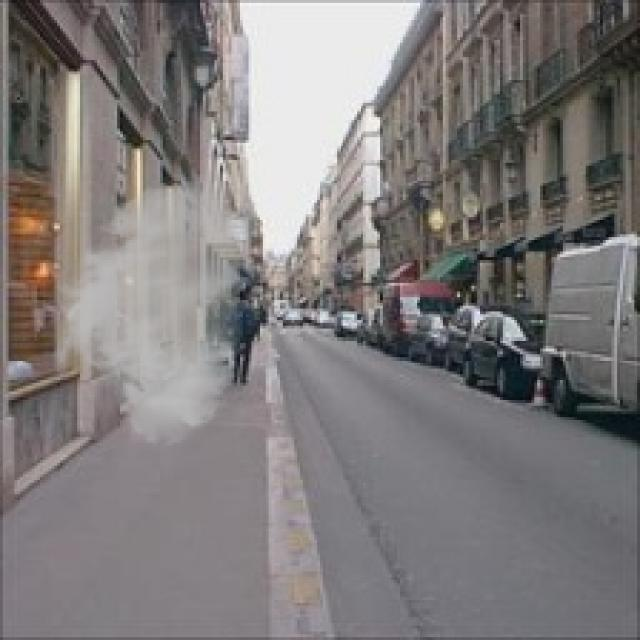smoke: (52, 172, 255, 448)
